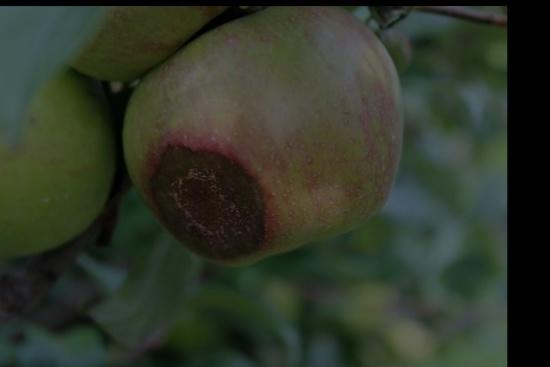rotten apple: (112, 7, 402, 274)
